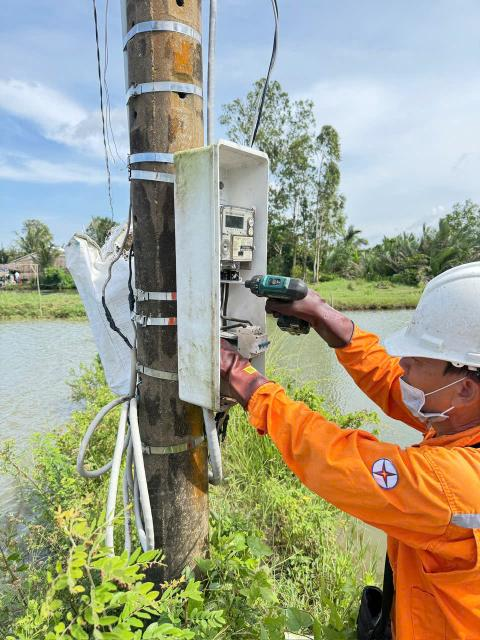gloves: (198, 328, 282, 417), (279, 273, 359, 354)
helmet: (362, 261, 480, 374)
